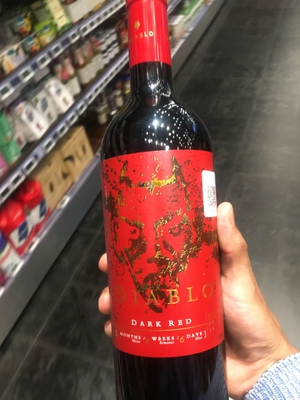diablo dark red: (92, 13, 237, 381)
